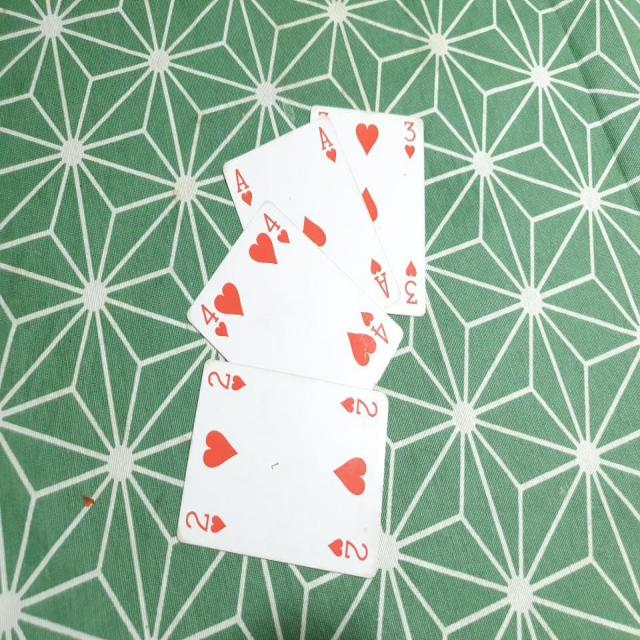2 Hearts: (169, 356, 400, 578)
3 Hearts: (315, 105, 438, 320)
4 Hearts: (179, 198, 404, 388)
A Hearts: (215, 112, 402, 321)
